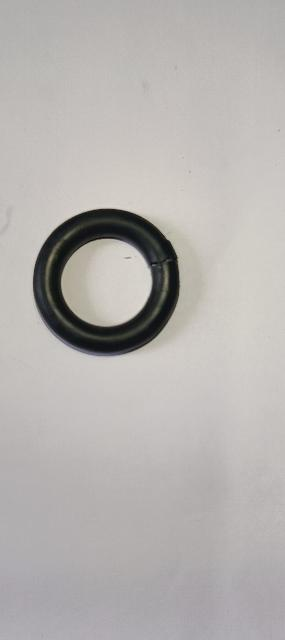crack: (146, 253, 184, 272)
